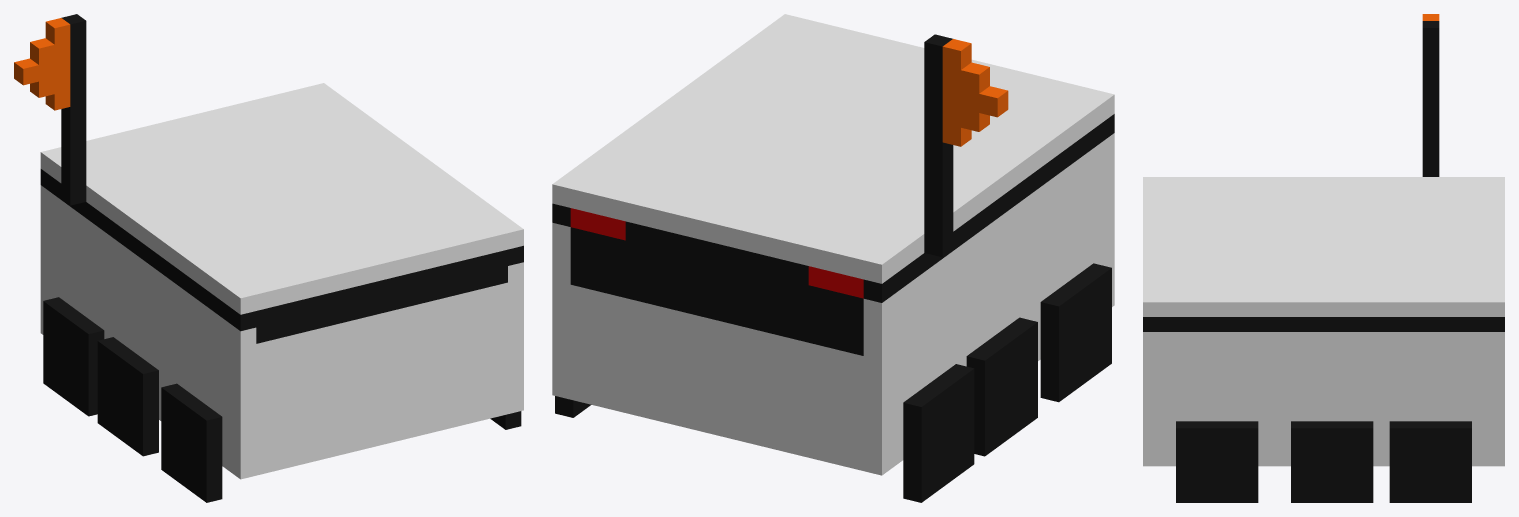
The model's file is tobor.glb.
3 views of the same model, side by side, from view 1: azimuth 30°, elevation 25°; view 2: azimuth 150°, elevation 25°; view 3: azimuth 270°, elevation 25° (orthographic). The views are drawn at different scales.
Visible parts, largest first — view 1: Tobor.002; view 2: Tobor.002; view 3: Tobor.002.
Part boxes in pixels (<box>): Tobor.002: <box>14,14,523,502</box>; Tobor.002: <box>552,14,1114,502</box>; Tobor.002: <box>1143,14,1504,502</box>.
Bounding box in the file's own units: 2.3 × 2.3 × 2.2.
Materials: 1 (1 with a texture image).
